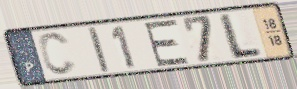1: (110, 24, 137, 70)
7: (181, 15, 217, 65)
C: (36, 30, 79, 77)
E: (142, 17, 191, 69)
I: (85, 25, 112, 75)
L: (218, 11, 264, 61)
